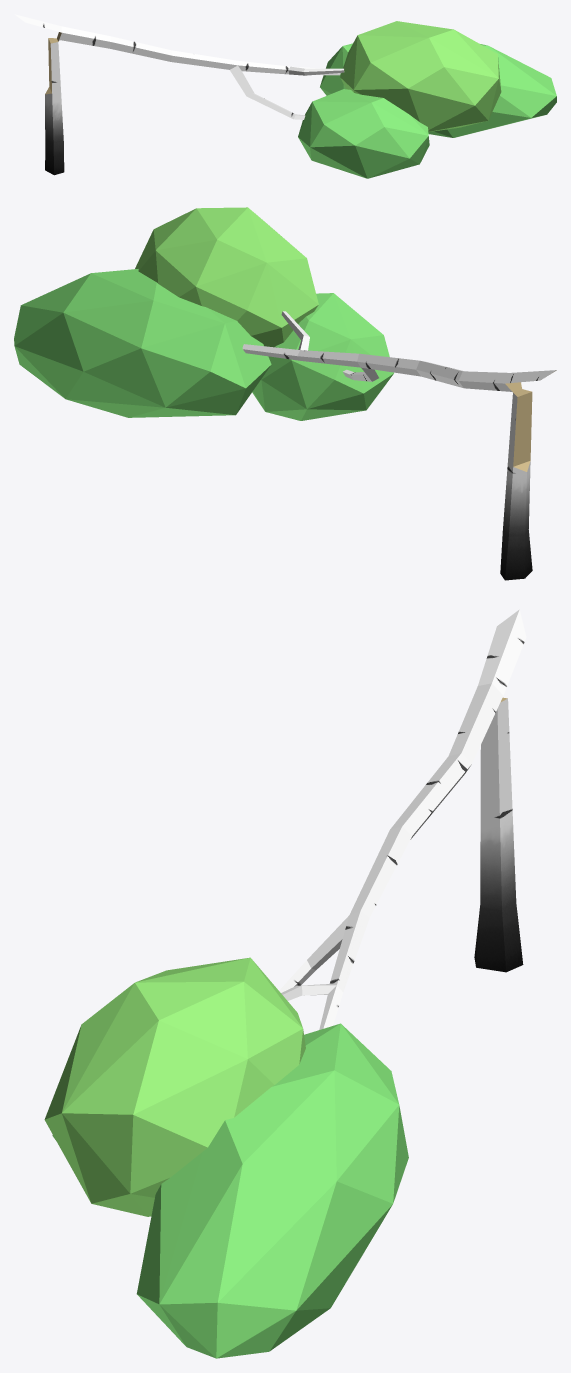
File: Birch_Tree_crk_l_BT_02.fbx
3 views of the same model, one above another, from view 1: azimuth 30°, elevation 25°; view 2: azimuth 150°, elevation 25°; view 3: azimuth 270°, elevation 25° (orthographic). The views are drawn at different scales.
Visible parts, largest first — view 1: Birch_Tree_crk_l_BT_02; view 2: Birch_Tree_crk_l_BT_02; view 3: Birch_Tree_crk_l_BT_02.
Boxes of the visible parts, left/top/right/bottom form: Birch_Tree_crk_l_BT_02: left=14, top=14, right=556, bottom=178; Birch_Tree_crk_l_BT_02: left=14, top=207, right=556, bottom=580; Birch_Tree_crk_l_BT_02: left=44, top=609, right=526, bottom=1358.
Size of the model in its own units: 1700 by 556 by 760.
